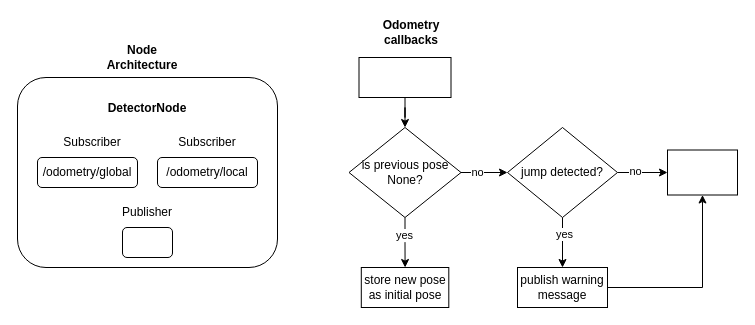
This 755x325 diagram has some shape labels left out. Each missing label, with the centre of its shape:
/alerts: (147,242)
new pose received: (404,77)
update previous pose: (702,172)
